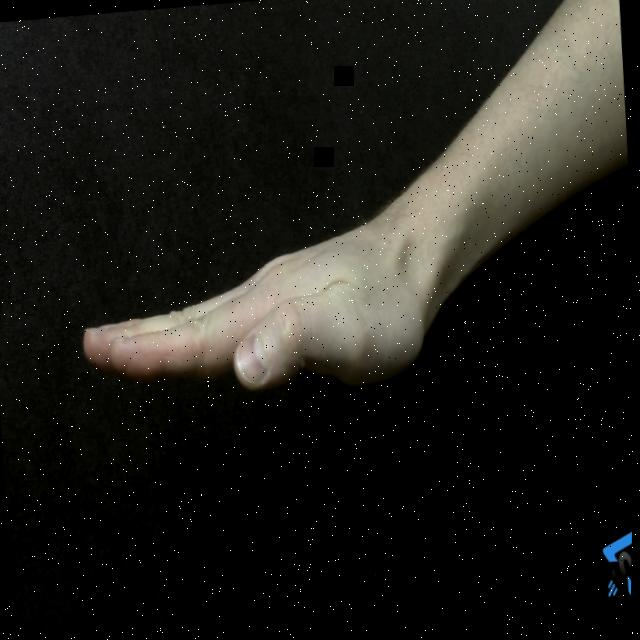Paper: (72, 226, 434, 407)
